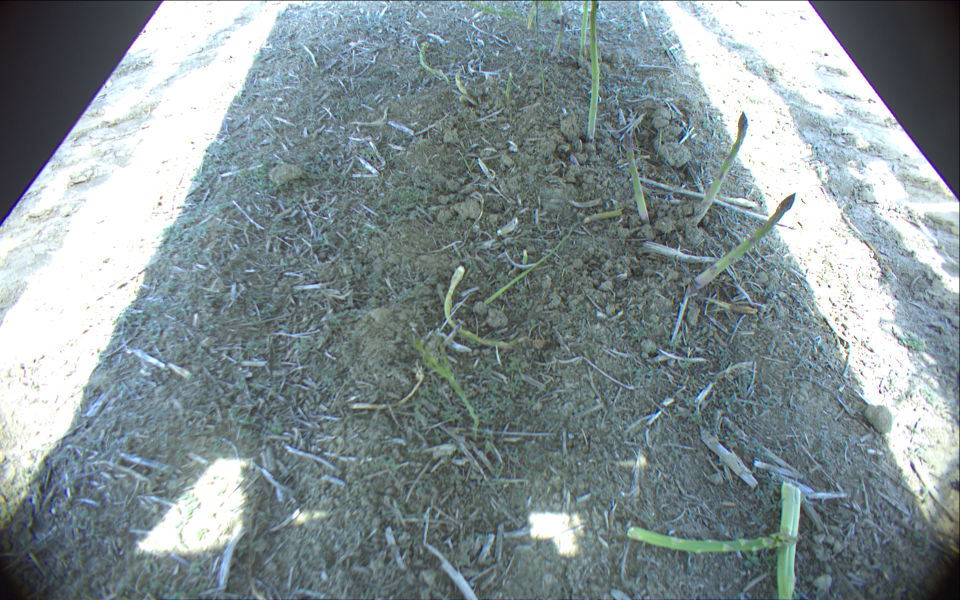aspa: (689, 194, 796, 295), (485, 222, 579, 306), (444, 266, 531, 351), (693, 111, 748, 224), (625, 526, 805, 553), (775, 480, 801, 600), (623, 131, 648, 223), (587, 1, 600, 142), (418, 42, 448, 84), (552, 15, 565, 59), (579, 1, 589, 49), (504, 73, 513, 103)
